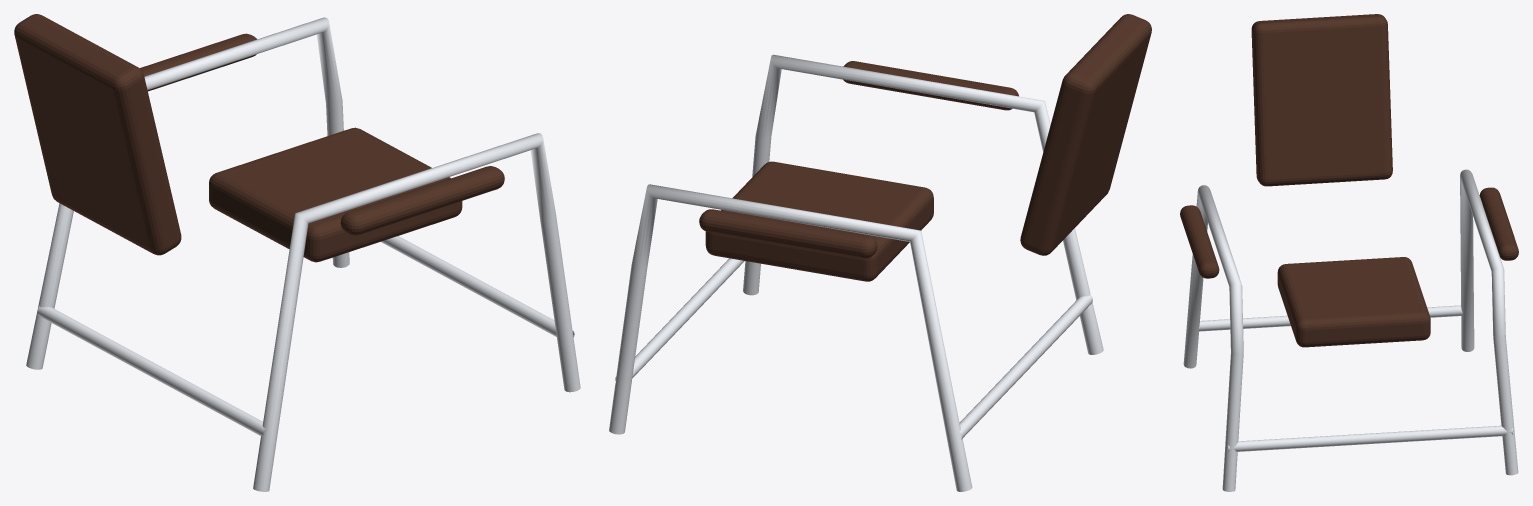
Rendered from chair.glb.
3 views of the same model, side by side, from view 1: azimuth 30°, elevation 25°; view 2: azimuth 150°, elevation 25°; view 3: azimuth 270°, elevation 25° (orthographic). The views are drawn at different scales.
Parts seen in each view (by area): view 1: ChairMesh, ChairFrame.001, ChairFrame, ChairFrame.003, ChairFrame.002; view 2: ChairMesh, ChairFrame, ChairFrame.001, ChairFrame.003, ChairFrame.002; view 3: ChairMesh, ChairFrame, ChairFrame.001, ChairFrame.002, ChairFrame.003.
Boxes of the visible parts, bbox=[...] form: ChairMesh: bbox=[14, 14, 504, 262]; ChairFrame.001: bbox=[253, 133, 580, 491]; ChairFrame: bbox=[26, 17, 349, 369]; ChairFrame.003: bbox=[37, 306, 265, 436]; ChairFrame.002: bbox=[380, 236, 574, 337]; ChairMesh: bbox=[699, 14, 1151, 281]; ChairFrame: bbox=[609, 184, 972, 491]; ChairFrame.001: bbox=[743, 54, 1103, 354]; ChairFrame.003: bbox=[959, 294, 1092, 439]; ChairFrame.002: bbox=[615, 258, 744, 382]; ChairMesh: bbox=[1180, 14, 1518, 347]; ChairFrame: bbox=[1460, 169, 1518, 475]; ChairFrame.001: bbox=[1183, 185, 1243, 491]; ChairFrame.002: bbox=[1228, 425, 1512, 451]; ChairFrame.003: bbox=[1198, 305, 1462, 331].
Bounding box in the file's own units: 1.08 × 0.9098 × 0.8961.
